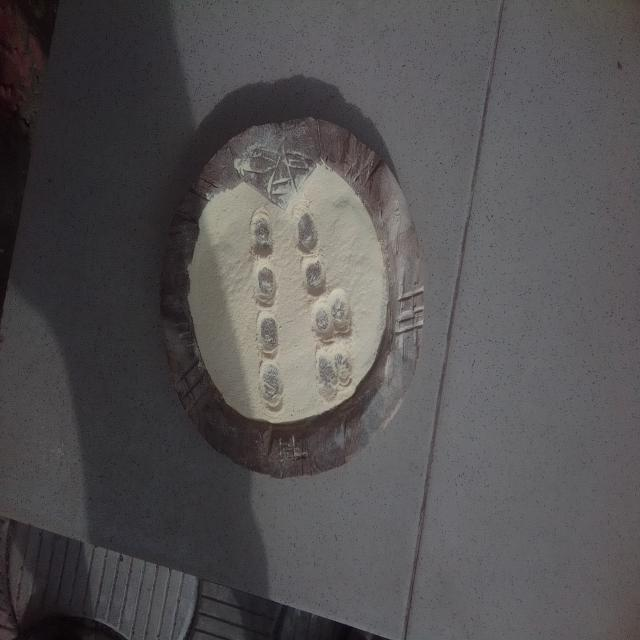double: (310, 342, 356, 399), (310, 290, 354, 342)
single: (254, 308, 284, 364), (248, 206, 278, 260), (258, 356, 288, 410), (292, 200, 321, 253), (252, 258, 278, 314), (300, 252, 328, 298)
